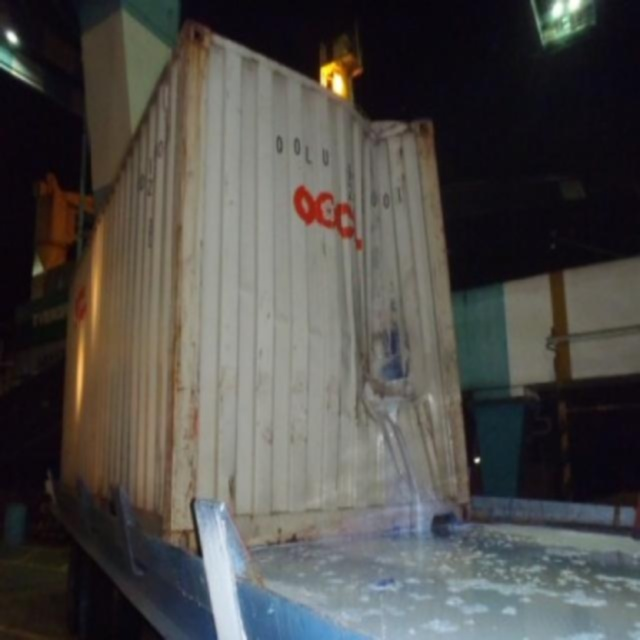Dent: (337, 99, 403, 326), (362, 406, 456, 507)
